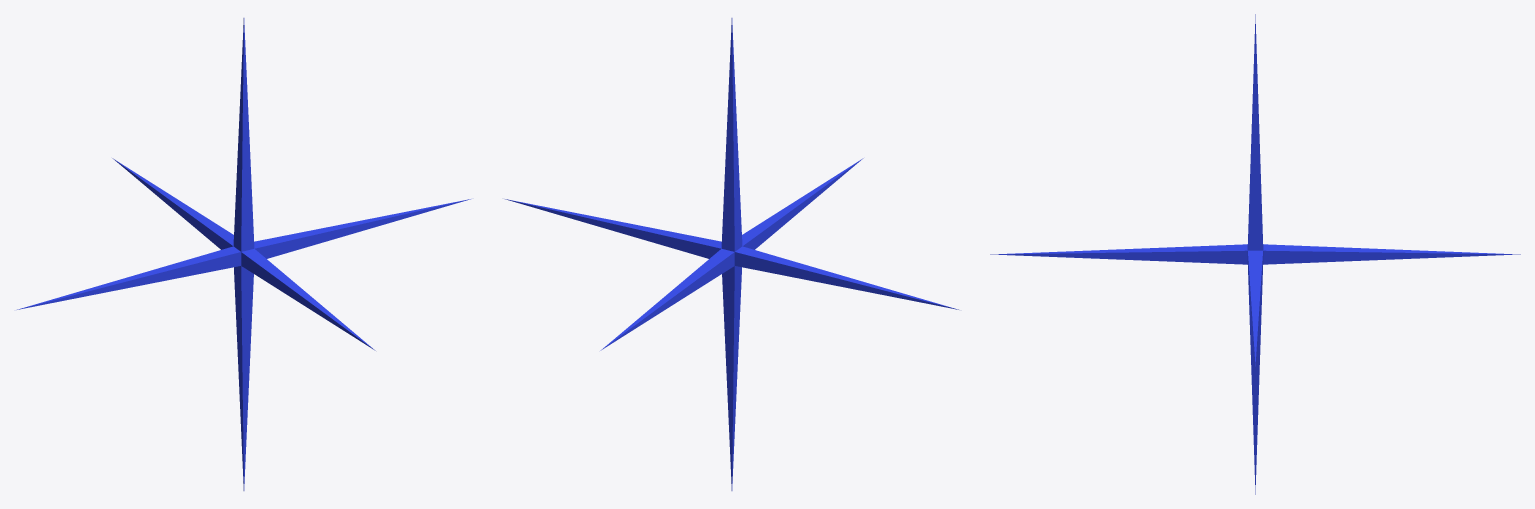
Rendered from spark.obj.
The picture shows the model from 3 angles, left to right: view 1: azimuth 30°, elevation 25°; view 2: azimuth 150°, elevation 25°; view 3: azimuth 270°, elevation 25°; orthographic projection.
Visible parts, largest first — view 1: Box001; view 2: Box001; view 3: Box001.
Boxes of the visible parts, box(x1,y1,x2,y2) form: Box001: box(17, 18, 470, 490); Box001: box(505, 18, 958, 490); Box001: box(990, 14, 1520, 494).
Bounding box in the file's own units: 6.28 × 6.28 × 6.28.
